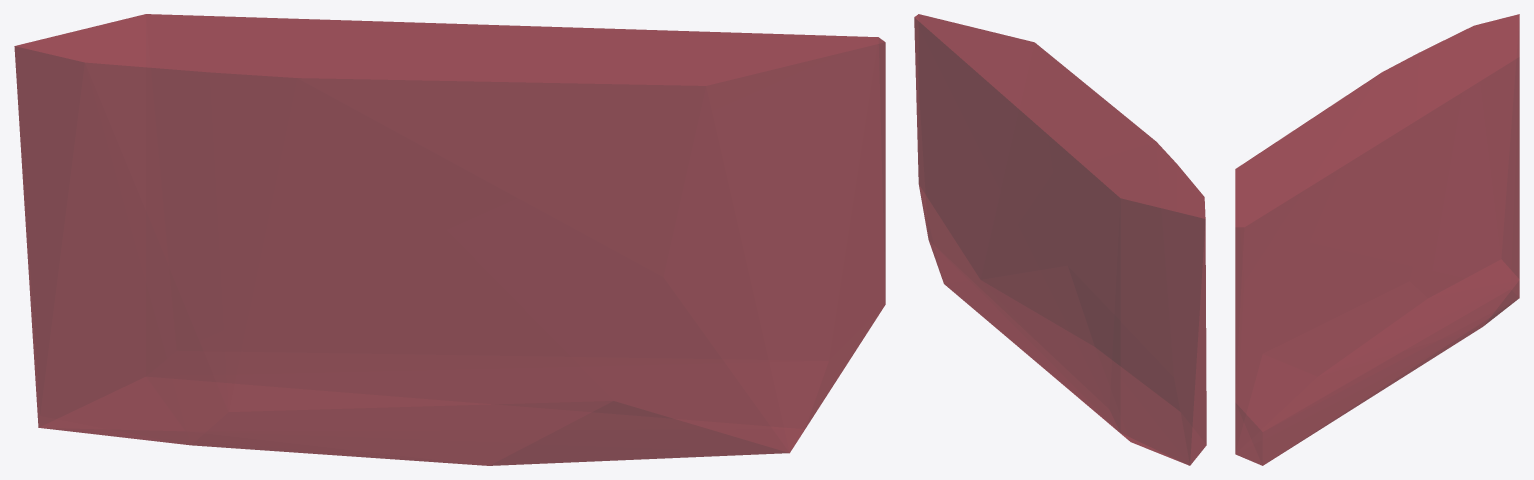
The picture shows the model from 3 angles, left to right: view 1: azimuth 30°, elevation 25°; view 2: azimuth 150°, elevation 25°; view 3: azimuth 270°, elevation 25°; orthographic projection. The views are drawn at different scales.
Visible parts, largest first — view 1: Shape_IndexedFaceSet.048_Shape_IndexedFaceSet.16450; view 2: Shape_IndexedFaceSet.048_Shape_IndexedFaceSet.16450; view 3: Shape_IndexedFaceSet.048_Shape_IndexedFaceSet.16450.
Part boxes in pixels (bbox=[...]): Shape_IndexedFaceSet.048_Shape_IndexedFaceSet.16450: bbox=[14, 14, 885, 465]; Shape_IndexedFaceSet.048_Shape_IndexedFaceSet.16450: bbox=[914, 14, 1206, 465]; Shape_IndexedFaceSet.048_Shape_IndexedFaceSet.16450: bbox=[1235, 14, 1519, 465].
Bounding box in the file's own units: 0.0126 × 0.00735 × 0.00712.
